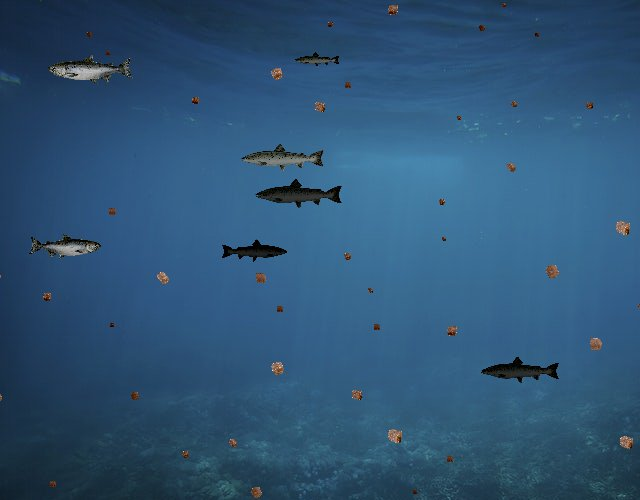Fish: (254, 178, 344, 210), (240, 142, 326, 173), (48, 54, 134, 85), (481, 355, 562, 385), (29, 234, 102, 260), (221, 239, 289, 263), (295, 52, 342, 69)
Pellet: (308, 95, 331, 118), (501, 157, 521, 177), (187, 93, 204, 110), (369, 320, 384, 334), (83, 28, 96, 41), (454, 112, 464, 122)
